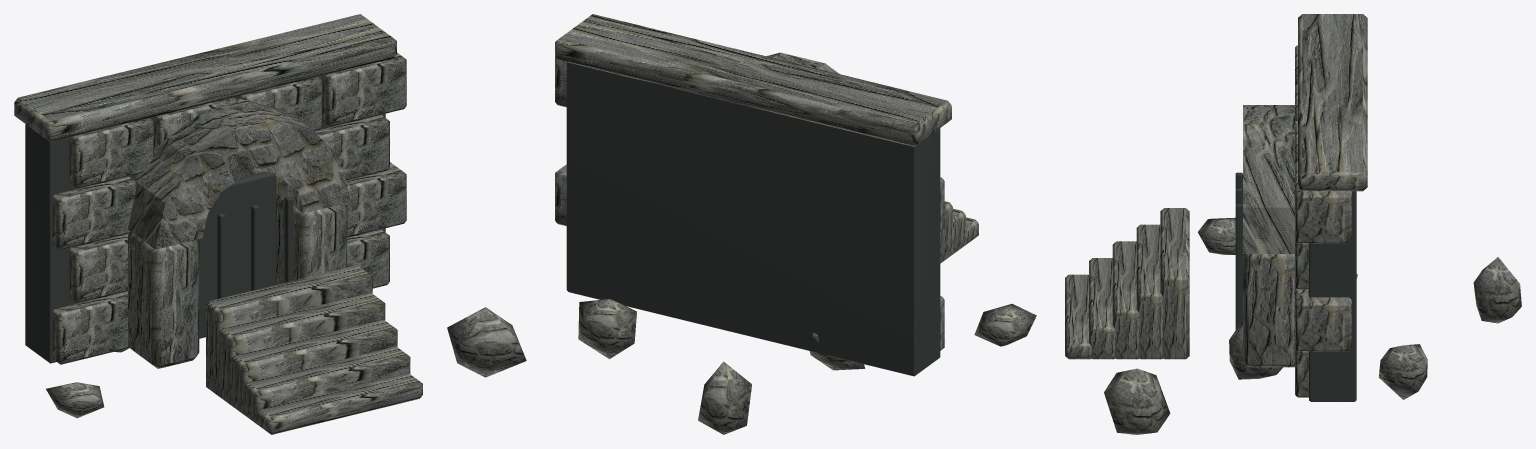
File: env-site-dungeon-mobile.glb
The picture shows the model from 3 angles, left to right: view 1: azimuth 30°, elevation 25°; view 2: azimuth 150°, elevation 25°; view 3: azimuth 270°, elevation 25°; orthographic projection. The views are drawn at different scales.
Visible parts, largest first — view 1: site dungeon · authored textured miniature; view 2: site dungeon · authored textured miniature; view 3: site dungeon · authored textured miniature.
Part boxes in pixels (box(x1,y1,x2,y2)): site dungeon · authored textured miniature: box(14, 14, 526, 434); site dungeon · authored textured miniature: box(555, 14, 1036, 434); site dungeon · authored textured miniature: box(1065, 14, 1521, 434).
Size of the model in its own units: 1.23 by 0.7862 by 1.25.
2 materials, 1 textured.
